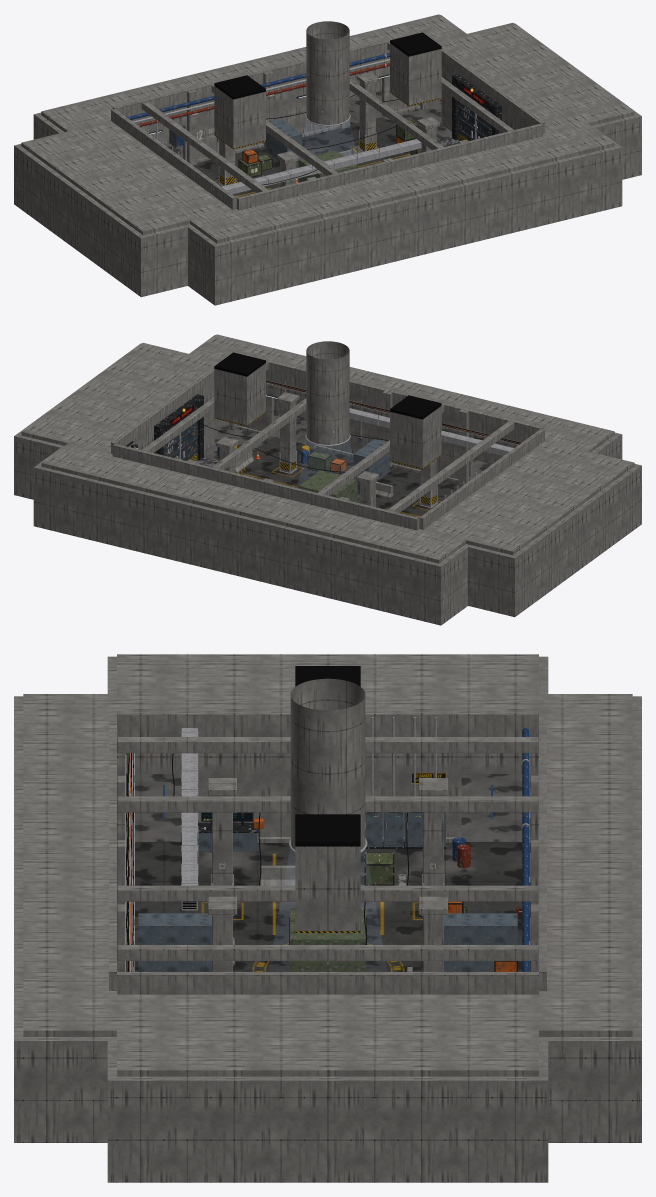
The picture shows the model from 3 angles, top to bottom: view 1: azimuth 30°, elevation 25°; view 2: azimuth 150°, elevation 25°; view 3: azimuth 270°, elevation 25°; orthographic projection. The views are drawn at different scales.
Visible parts, largest first — view 1: tdm-perimeter, architecture, south-switchgear, west-access, east-pump-room, north-cable-gallery, wet-concrete-floor, tdm-hall-cover; view 2: tdm-perimeter, architecture, north-cable-gallery, west-access, east-pump-room, south-switchgear, wet-concrete-floor, tdm-hall-cover, crate-4; view 3: architecture, tdm-perimeter, east-pump-room, north-cable-gallery, south-switchgear, west-access, wet-concrete-floor, tdm-hall-cover, crate-9, barrier-3.
Boxes of the visible parts, bbox=[...] form: tdm-perimeter: bbox=[14, 15, 641, 305]; architecture: bbox=[111, 21, 544, 210]; south-switchgear: bbox=[190, 123, 614, 243]; west-access: bbox=[21, 121, 232, 235]; east-pump-room: bbox=[423, 22, 634, 133]; north-cable-gallery: bbox=[41, 14, 465, 158]; wet-concrete-floor: bbox=[193, 109, 451, 197]; tdm-hall-cover: bbox=[265, 118, 357, 182]; tdm-perimeter: bbox=[14, 335, 641, 625]; architecture: bbox=[111, 341, 544, 530]; north-cable-gallery: bbox=[41, 443, 465, 563]; west-access: bbox=[423, 441, 634, 555]; east-pump-room: bbox=[21, 342, 232, 453]; south-switchgear: bbox=[190, 334, 614, 478]; wet-concrete-floor: bbox=[204, 429, 462, 517]; tdm-hall-cover: bbox=[298, 439, 390, 502]; crate-4: bbox=[307, 450, 331, 471]; architecture: bbox=[109, 666, 546, 994]; tdm-perimeter: bbox=[14, 656, 641, 1182]; east-pump-room: bbox=[117, 994, 538, 1076]; north-cable-gallery: bbox=[539, 694, 632, 1036]; south-switchgear: bbox=[23, 694, 116, 1036]; west-access: bbox=[117, 654, 538, 841]; wet-concrete-floor: bbox=[135, 842, 530, 971]; tdm-hall-cover: bbox=[138, 908, 517, 971]; crate-9: bbox=[364, 852, 394, 885]; barrier-3: bbox=[260, 865, 295, 885].
Size of the model in its own units: 42.8 by 13.18 by 26.8.
Materials: 61 (40 with a texture image).
